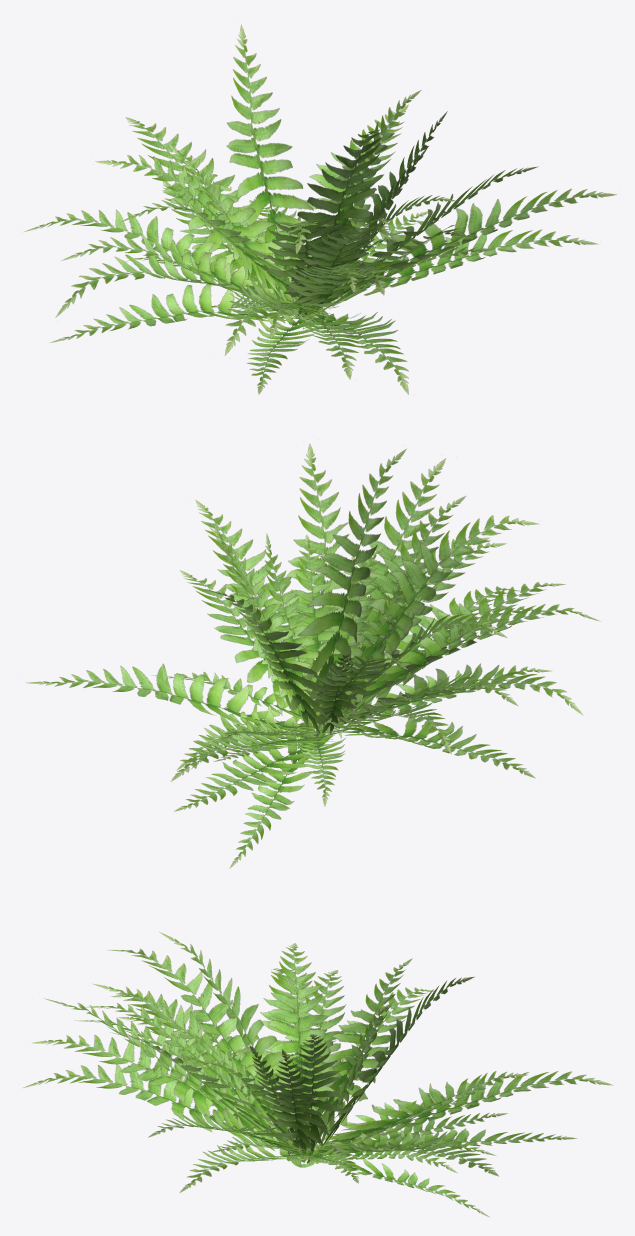
File: Pakis_01_B_-_copy_001.glb
3 views of the same model, one above another, from view 1: azimuth 30°, elevation 25°; view 2: azimuth 150°, elevation 25°; view 3: azimuth 270°, elevation 25° (orthographic). The views are drawn at different scales.
Parts seen in each view (by area): view 1: Pakis_01_B - copy.001; view 2: Pakis_01_B - copy.001; view 3: Pakis_01_B - copy.001.
Part boxes in pixels (x1,y1,x2,y2): Pakis_01_B - copy.001: (24, 24, 616, 394); Pakis_01_B - copy.001: (26, 444, 600, 868); Pakis_01_B - copy.001: (23, 932, 613, 1217).
Size of the model in its own units: 1.94 by 1.17 by 2.15.
Materials: 1 (1 with a texture image).
